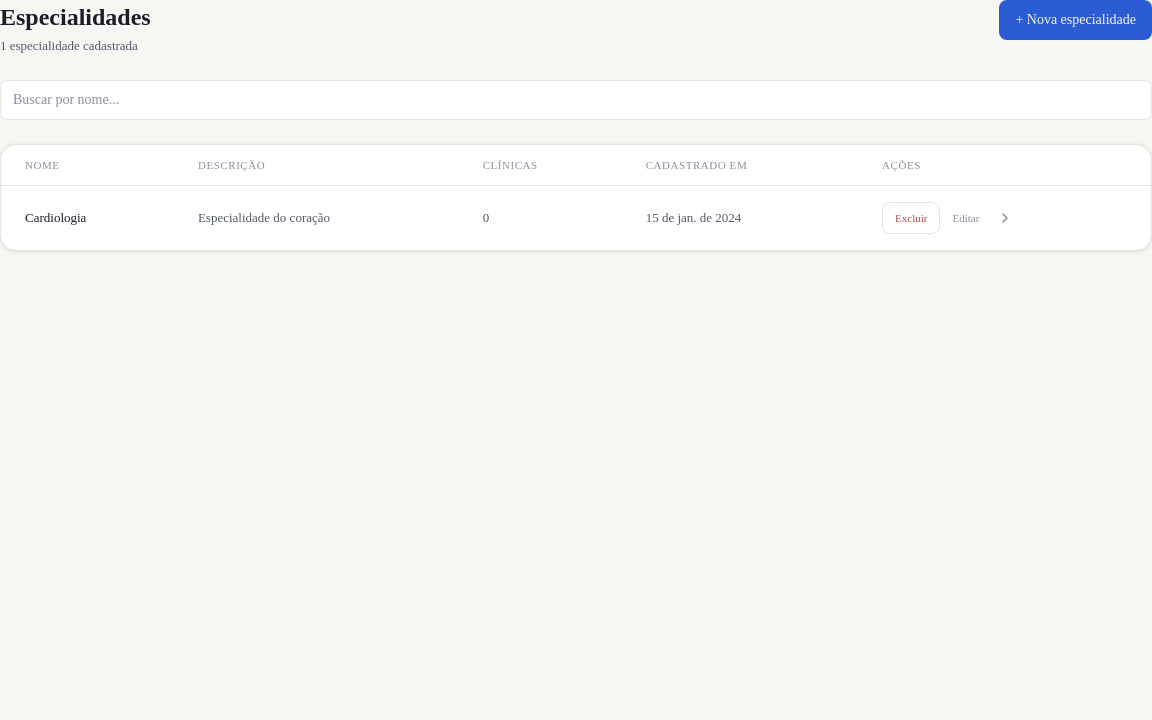
it: SpecialtyList (integration) › as PLATFORM_ADMIN › shows 409 conflict error message when specialty is linked to doctors
The width and height of the screenshot is (1152, 720).
Expected: the table with test id "specialty-list-table" is shown, [1,145,1151,250]
Click the button with test id "specialty-delete-button-uuid-1" at (911, 218), box [882,202,940,234]
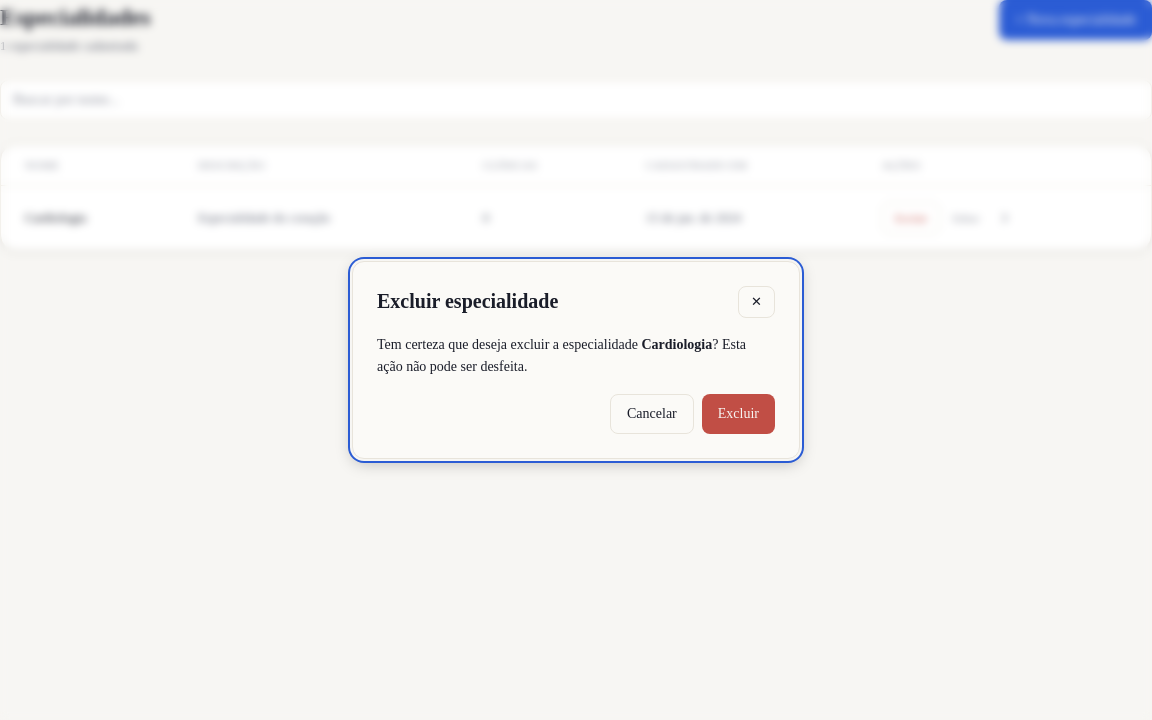
Click the button with test id "delete-specialty-dialog-confirm" at (738, 414), box [702,394,775,434]
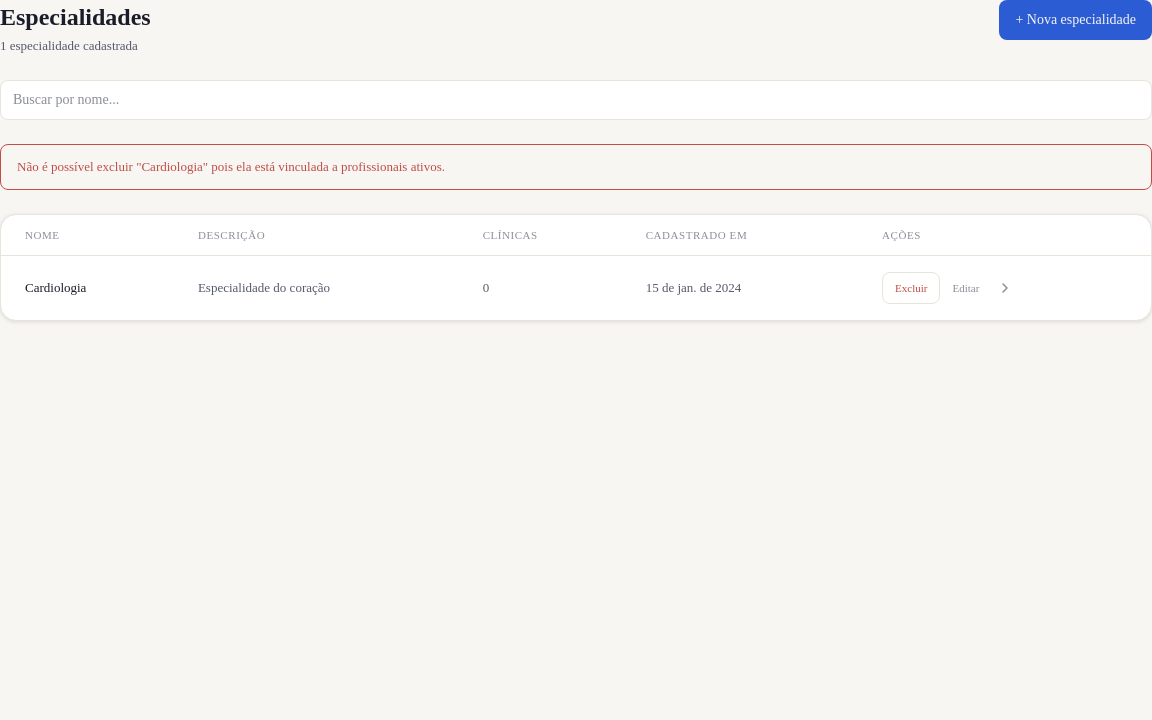
Now the message with test id "specialty-list-delete-error" shows "Não é possível excluir \"Cardiologia\" pois ela está vinculada a profissionais ativos.", box [17,159,445,174]
